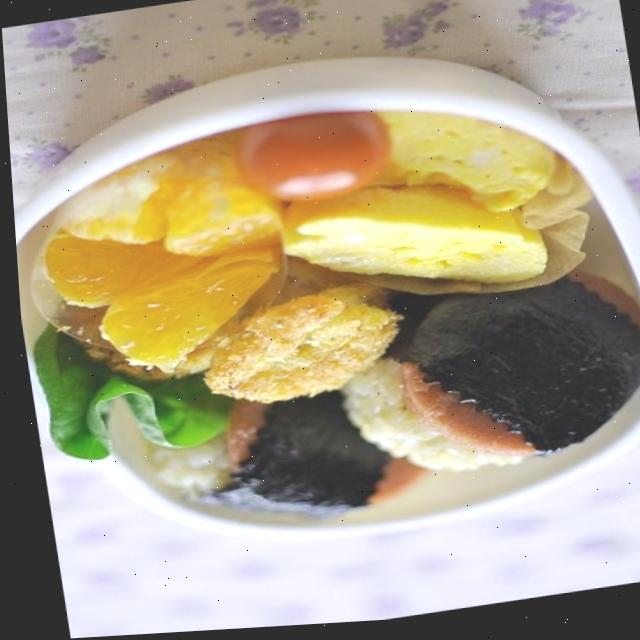寿司卷物: (3, 24, 640, 610)
